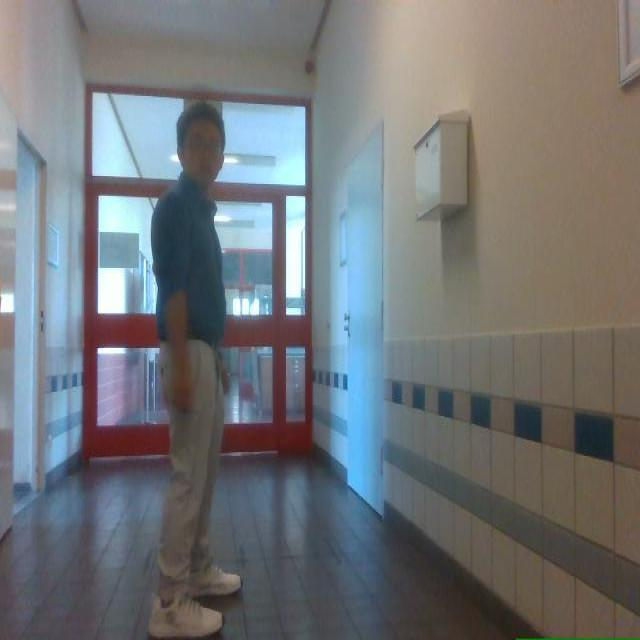humans: (148, 101, 241, 639)
